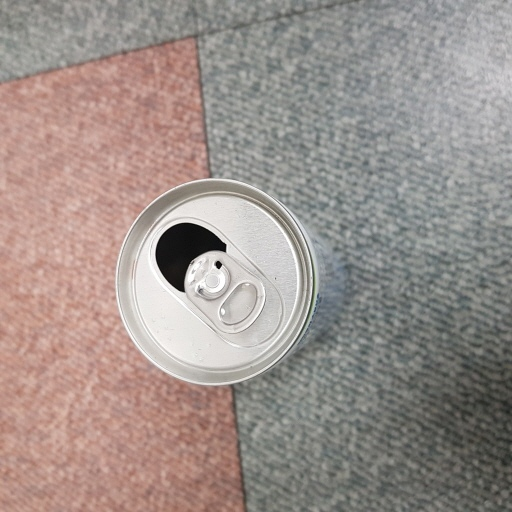Metal_0: (114, 177, 353, 394)
